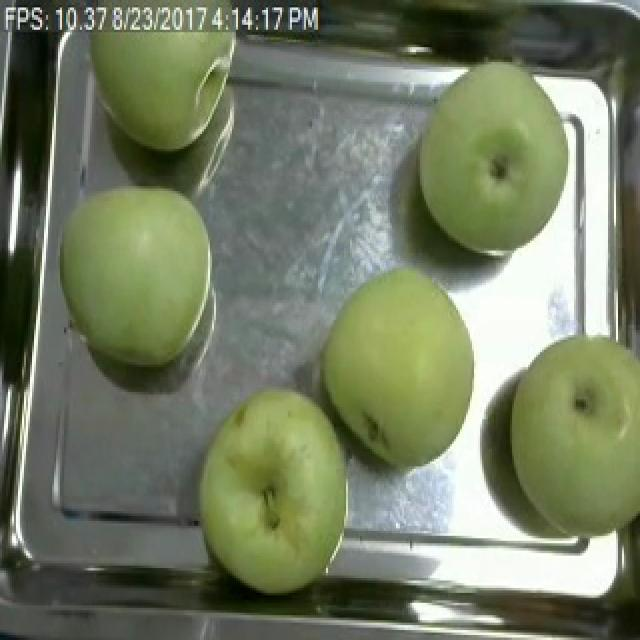50-_ripeness: (182, 379, 371, 604), (314, 259, 482, 489), (50, 185, 231, 371), (408, 61, 572, 264)
